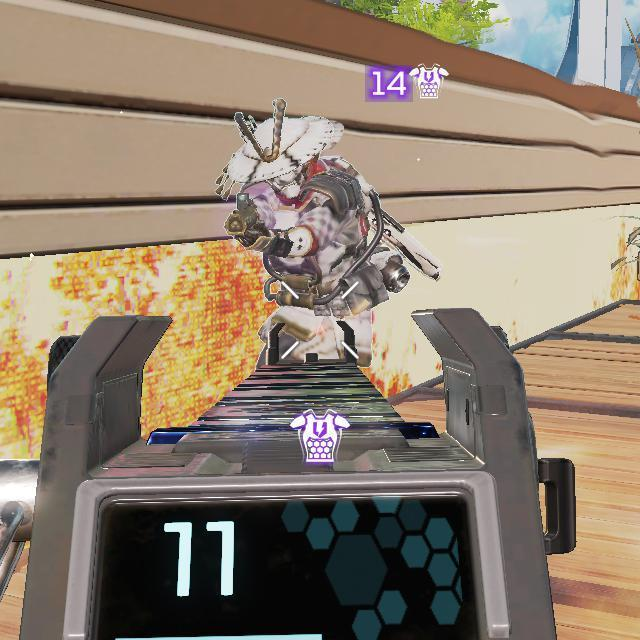avatar: (213, 112, 412, 368)
